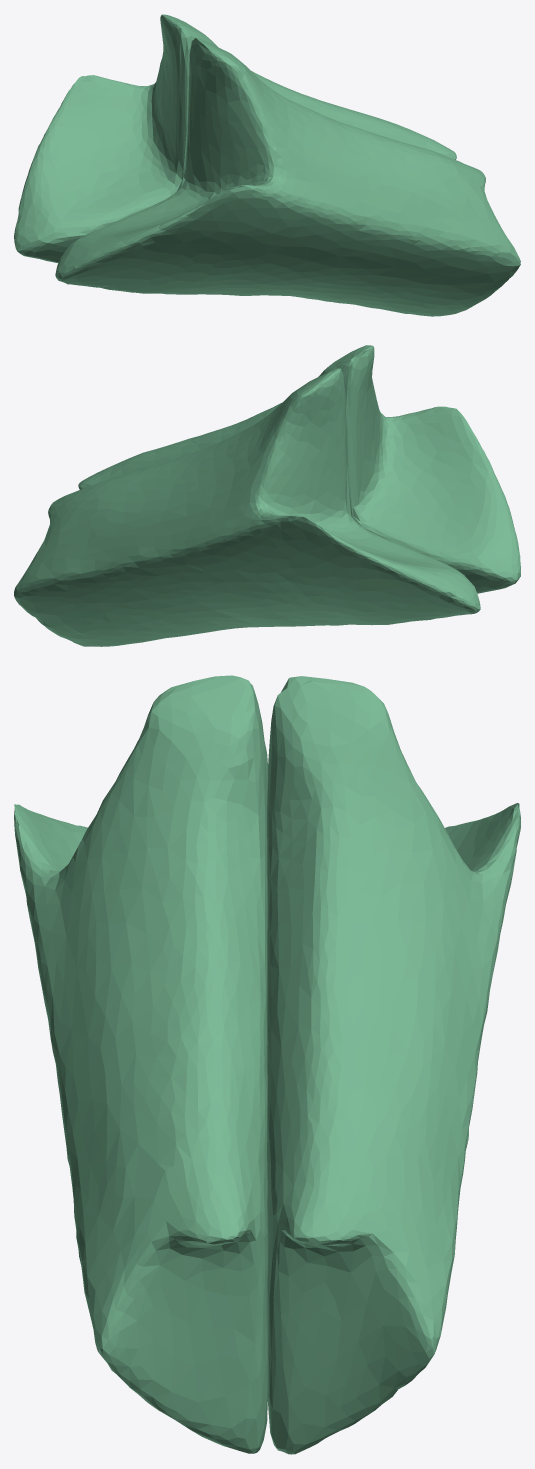
The picture shows the model from 3 angles, top to bottom: view 1: azimuth 30°, elevation 25°; view 2: azimuth 150°, elevation 25°; view 3: azimuth 270°, elevation 25°; orthographic projection. The views are drawn at different scales.
Parts seen in each view (by area): view 1: 31.obj; view 2: 31.obj; view 3: 31.obj.
Boxes of the visible parts, left/top/right/bottom form: 31.obj: left=14, top=14, right=520, bottom=316; 31.obj: left=14, top=345, right=520, bottom=646; 31.obj: left=14, top=675, right=520, bottom=1454.
Bounding box in the file's own units: 3714 × 2782 × 2230.
